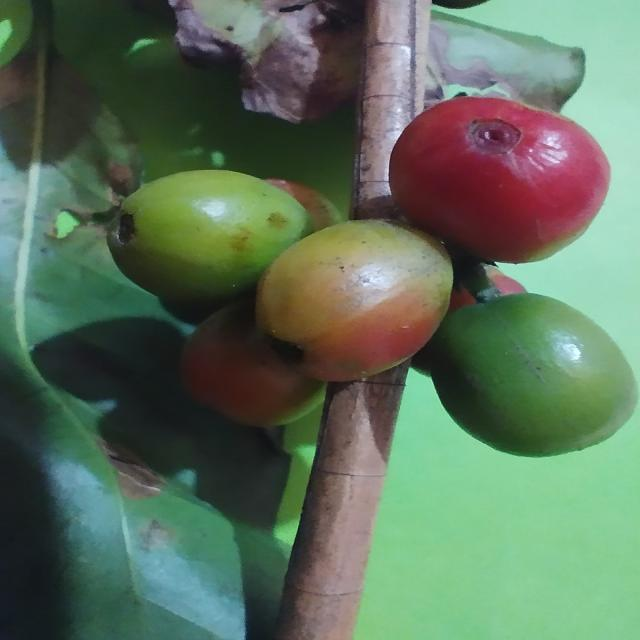Sano: (387, 94, 612, 266), (410, 293, 639, 460), (254, 220, 455, 384), (107, 170, 316, 309)
